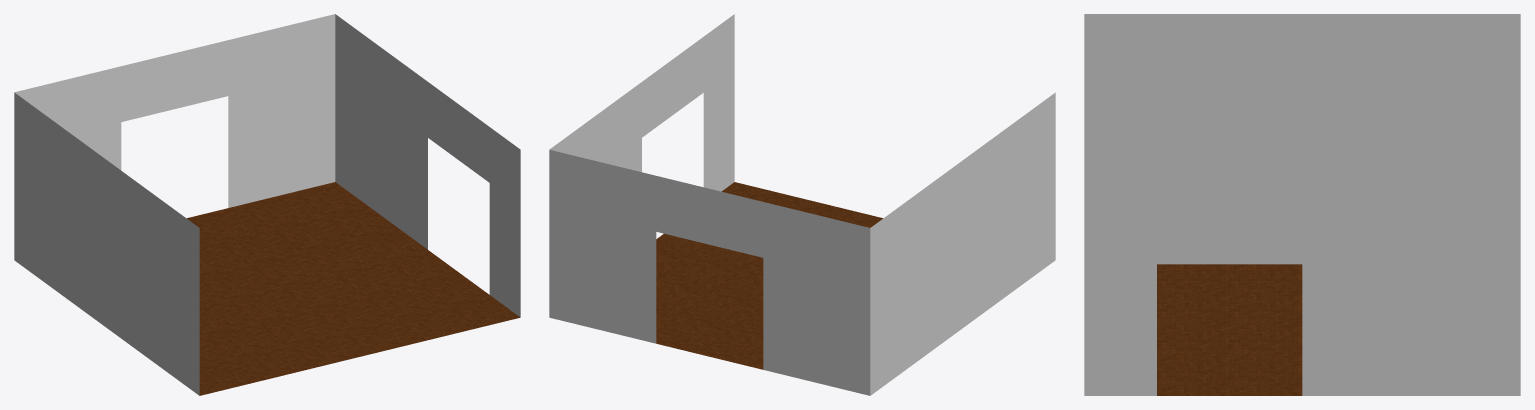
File: house_floor_base_room2.fbx
The picture shows the model from 3 angles, left to right: view 1: azimuth 30°, elevation 25°; view 2: azimuth 150°, elevation 25°; view 3: azimuth 270°, elevation 25°; orthographic projection. The views are drawn at different scales.
Visible parts, largest first — view 1: room2_walls, room2_floor; view 2: room2_walls, room2_floor; view 3: room2_walls, room2_floor.
Boxes of the visible parts, <box> form: room2_walls: <box>14,14,520,395</box>; room2_floor: <box>187,182,519,395</box>; room2_walls: <box>549,14,1055,395</box>; room2_floor: <box>656,182,882,369</box>; room2_walls: <box>1084,14,1520,395</box>; room2_floor: <box>1157,264,1302,395</box>.
Bounding box in the file's own units: 192 × 96 × 192.
